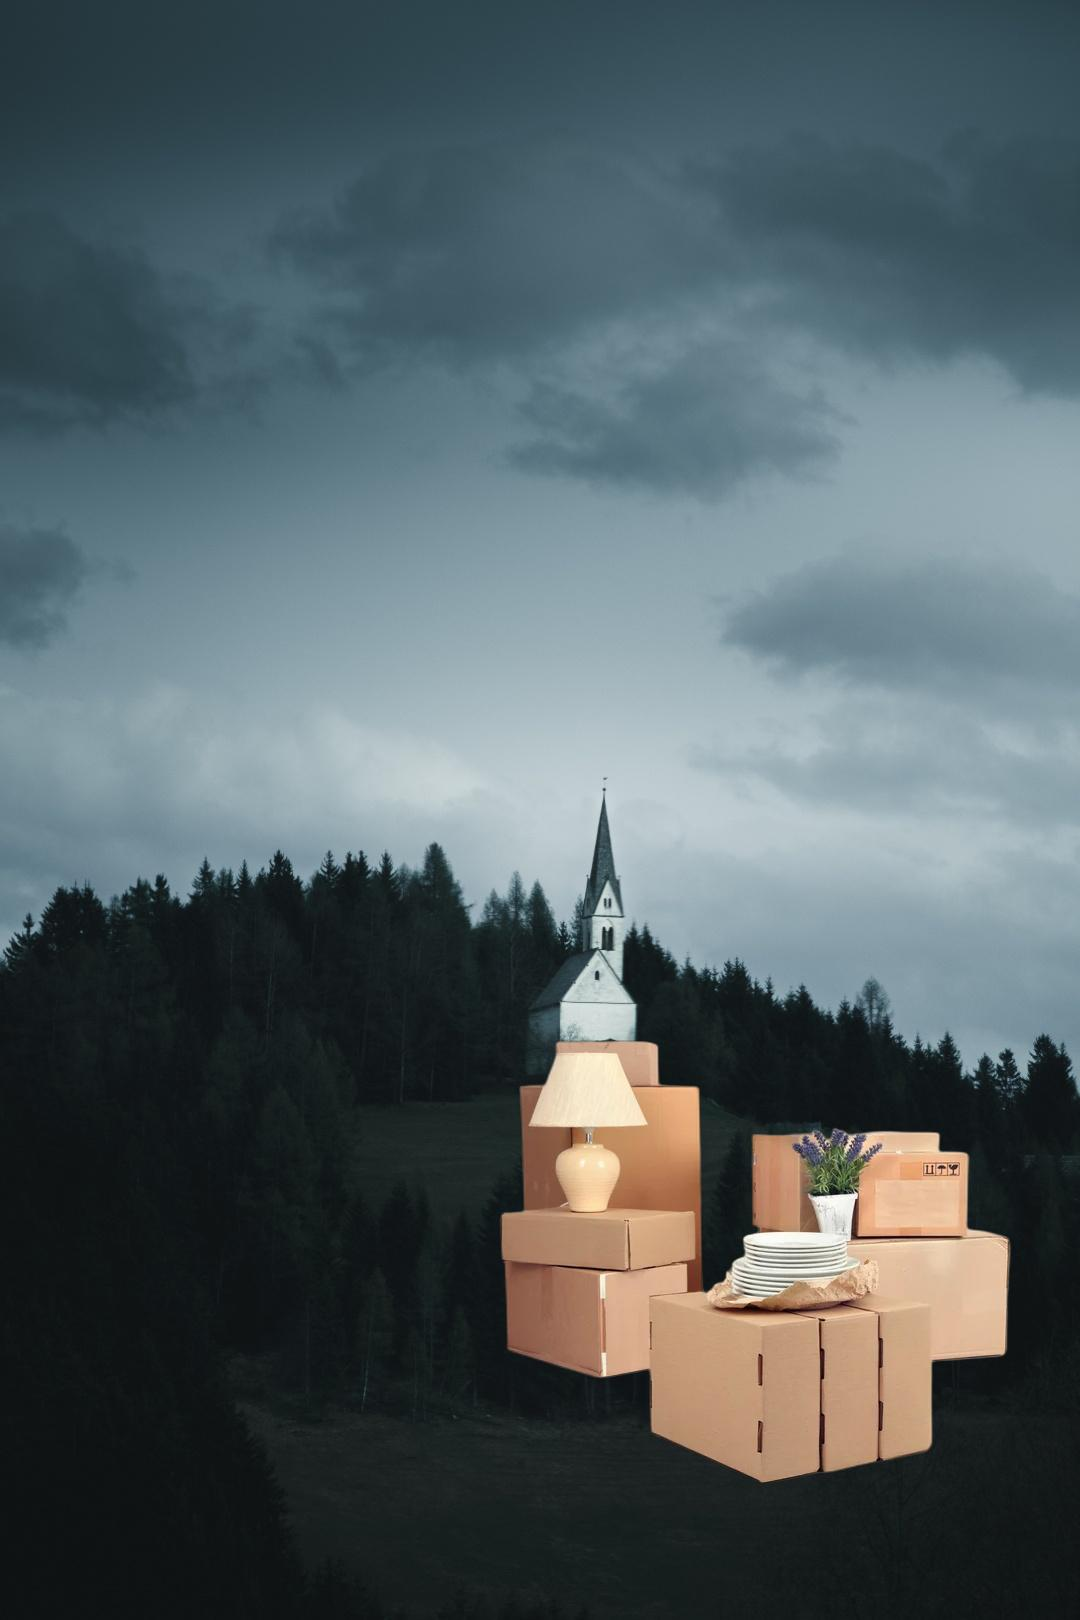trashbox-cardboard: (495, 1035, 1015, 1487)
